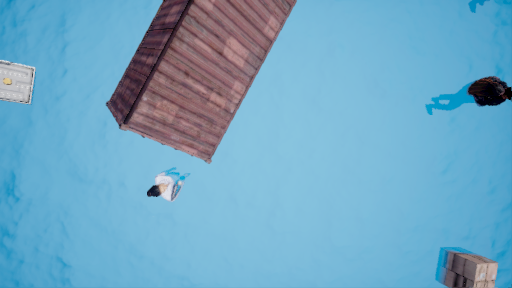person: (420, 71, 512, 123), (140, 165, 198, 205)
